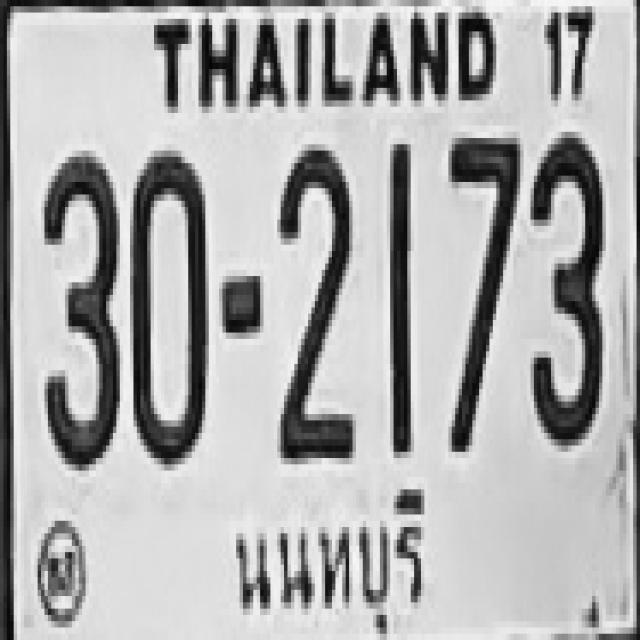0: (132, 151, 207, 464)
1: (387, 141, 407, 455)
2: (277, 141, 349, 455)
3: (41, 154, 120, 467), (527, 132, 602, 439)
7: (446, 132, 518, 445)
Nonthaburi: (222, 477, 421, 640)
